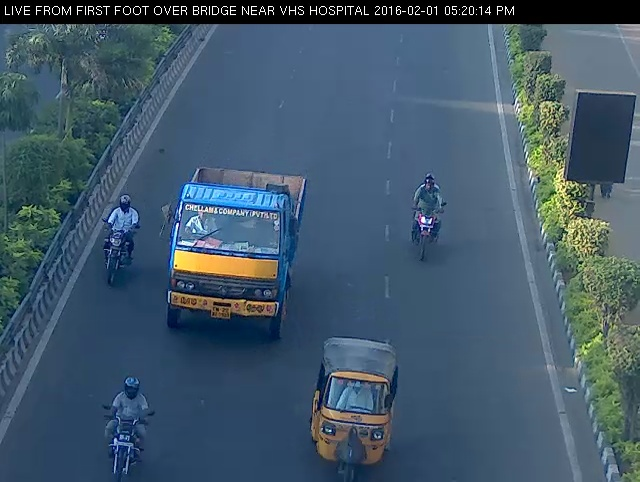Bus: (144, 154, 320, 351)
Car: (299, 317, 415, 482)
Person: (91, 371, 168, 479), (396, 162, 456, 272), (89, 191, 150, 296)
